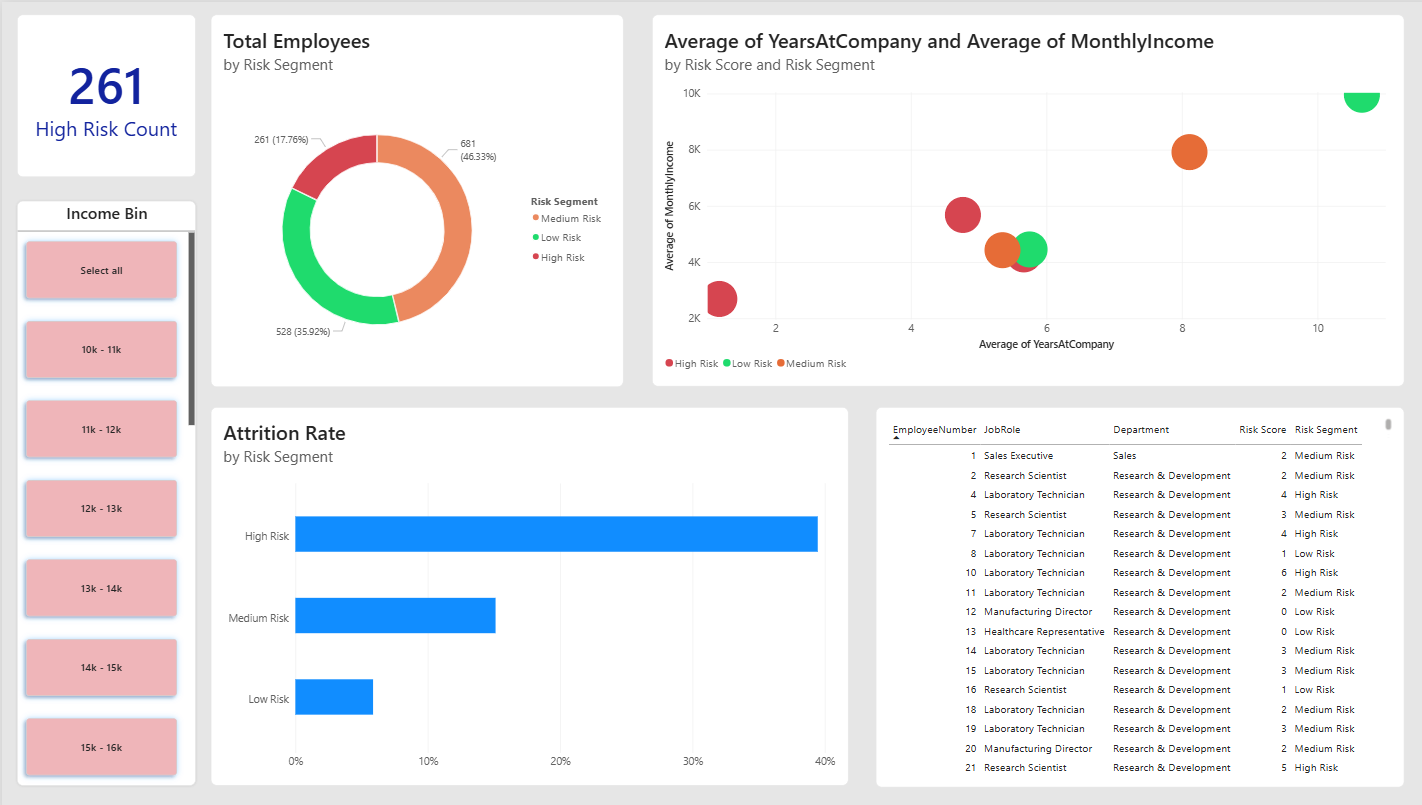

The page's visual inventory and layout, read from the dashboard file:
{"tool":"powerbi","page":{"name":"Risk Segmentation & Retention Strategy","canvas":[1920,1080],"ordinal":2},"visuals":[{"type":"donutChart","fields":{"Category":["JobDetails.Risk Segment"],"Y":["_Meaures.Total Employees"]},"box":[278.3,16.7,550,496.7],"z":0},{"type":"clusteredBarChart","fields":{"Category":["JobDetails.Risk Segment"],"Y":["_Meaures.Attrition Rate"]},"box":[278.3,540,550,505],"z":1},{"type":"scatterChart","fields":{"Category":["JobDetails.Risk Score"],"Series":["JobDetails.Risk Segment"],"X":["Sum(JobDetails.YearsAtCompany)"],"Y":["Sum(JobDetails.MonthlyIncome)"]},"box":[866.7,16.7,1003.3,496.7],"z":2},{"type":"tableEx","fields":{"Values":["JobDetails.EmployeeNumber","JobDetails.JobRole","JobDetails.Department","Sum(JobDetails.Risk Score)","JobDetails.Risk Segment"]},"box":[866.7,540,1003.3,506.7],"z":3},{"type":"advancedSlicerVisual","fields":{"Values":["JobDetails.Income Bin"]},"box":[20,265,238.3,780],"z":4},{"type":"card","fields":{"Values":["_Meaures.High Risk Count"]},"box":[20,16.7,238.3,216.7],"z":5}]}

Visuals, with their boxes in screenshot pixels (x1, y1, x2, y2), scaled from the page's 1920x1080 canvas onto the 1422x805 screenshot:
donutChart - JobDetails.Risk Segment x _Meaures.Total Employees: left=206, top=12, right=613, bottom=383
clusteredBarChart - JobDetails.Risk Segment x _Meaures.Attrition Rate: left=206, top=402, right=613, bottom=779
scatterChart - JobDetails.Risk Score x JobDetails.Risk Segment: left=642, top=12, right=1385, bottom=383
tableEx - JobDetails.EmployeeNumber x JobDetails.JobRole: left=642, top=402, right=1385, bottom=780
advancedSlicerVisual - JobDetails.Income Bin: left=15, top=198, right=191, bottom=779
card - _Meaures.High Risk Count: left=15, top=12, right=191, bottom=174
